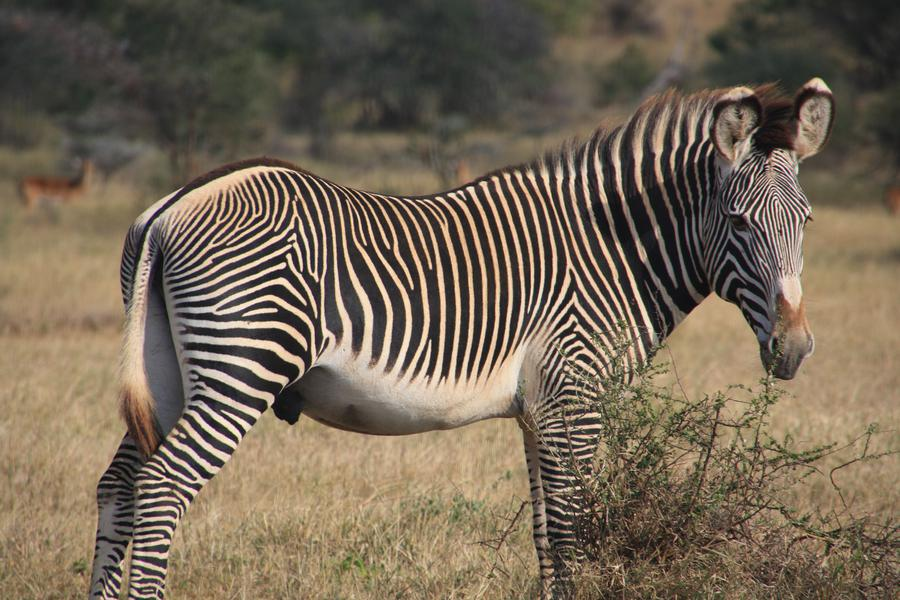zebra_grevys: (130, 135, 625, 405)
